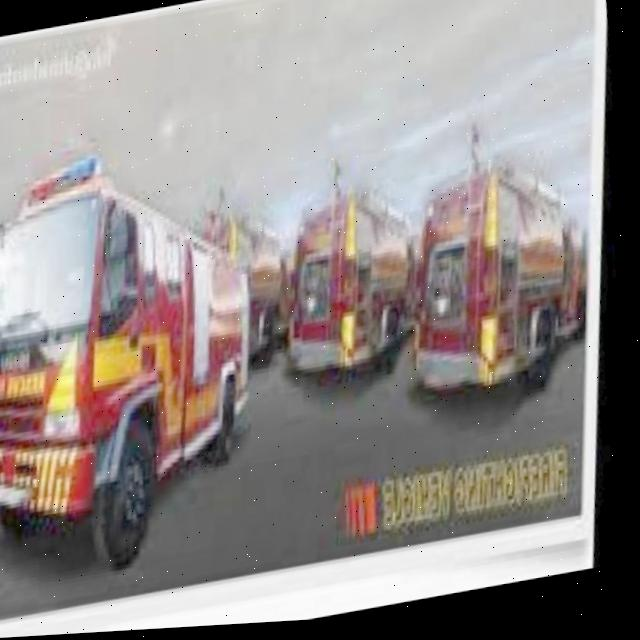emergency: (0, 125, 294, 591), (384, 108, 611, 419), (261, 149, 435, 398), (189, 176, 304, 379)
